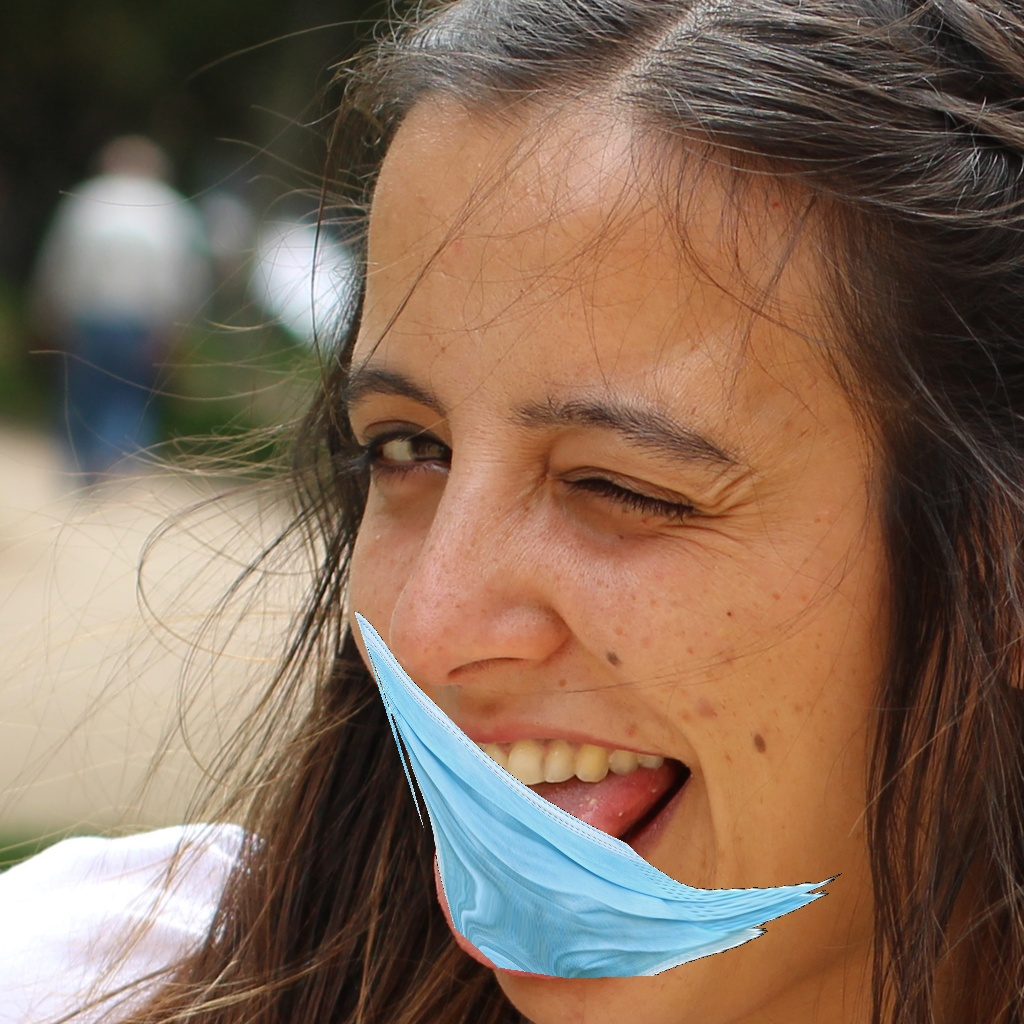mascarilla_mal_puesta: (267, 350, 977, 1024)
